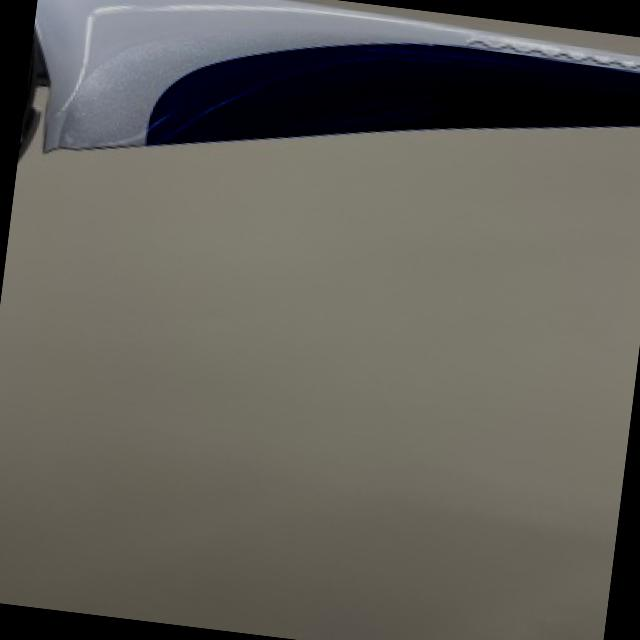healthy: (18, 0, 640, 154)
